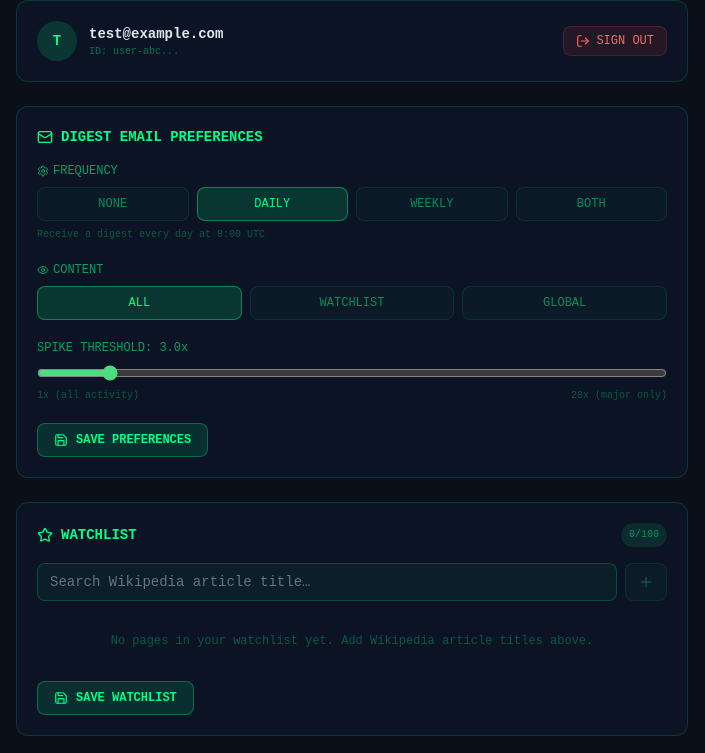
Scenario: SettingsPanel – watchlist autocomplete › shows suggestion dropdown after fetch returns results
The width and height of the screenshot is (705, 753).
In the field with placeholder "Search Wikipedia article title…": x=327, y=582 [37, 563, 617, 601], type "Bit"
Wait 300 ms
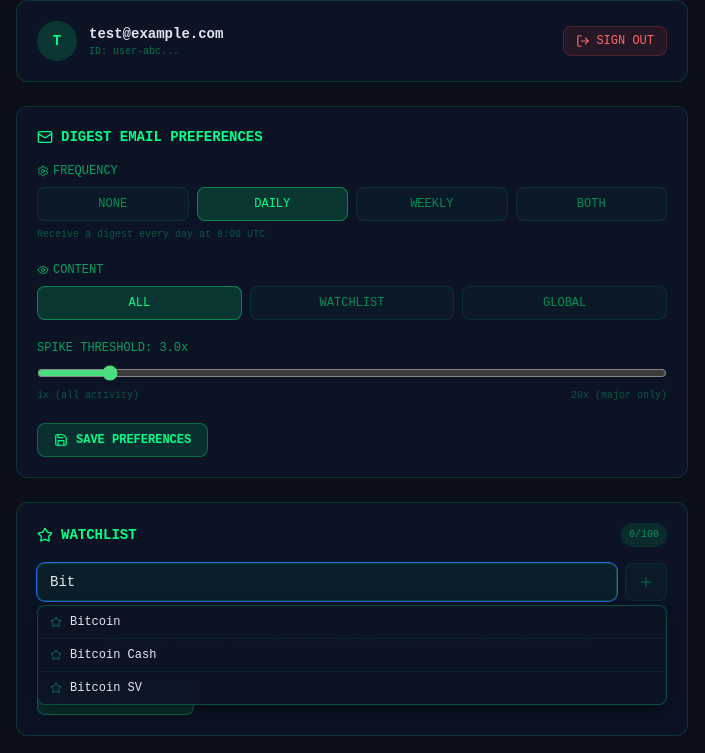
Check: the text "Bitcoin" is shown, box [70, 614, 120, 630]
Check: the text "Bitcoin Cash" is shown, box [70, 647, 156, 663]
Check: the text "Bitcoin SV" is shown, box [70, 680, 142, 696]
